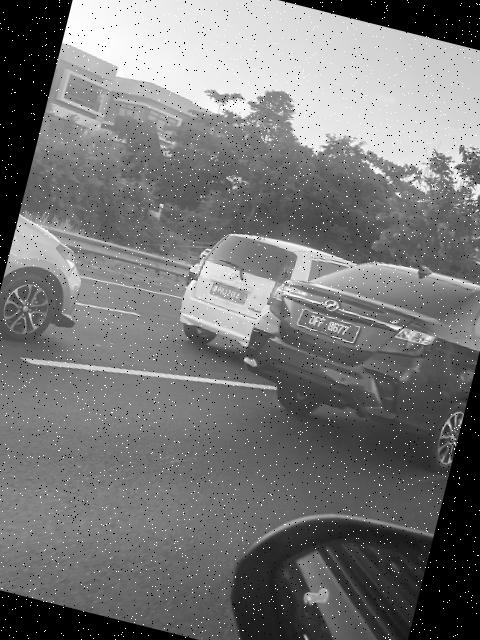License_Plate: (284, 303, 369, 352), (198, 276, 258, 314)
car: (237, 233, 480, 465), (172, 213, 371, 379)
